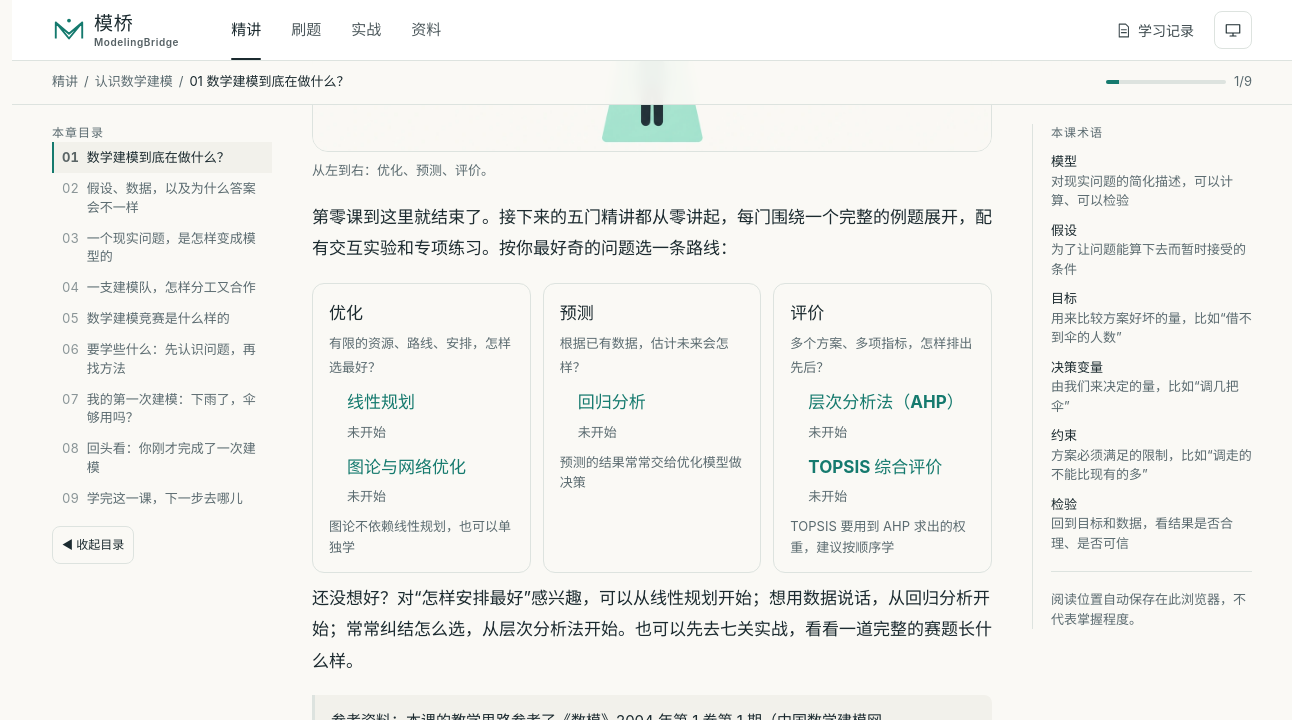
Test: the lesson page › ends with three routes into the existing courses and the completion card
The width and height of the screenshot is (1292, 720).
(page scrolled)
What coordinates should you click on to do the following:
click the link "回归分析"
I would click on:
 (612, 402)
Its box is [578,392,646,412].
(page scrolled)
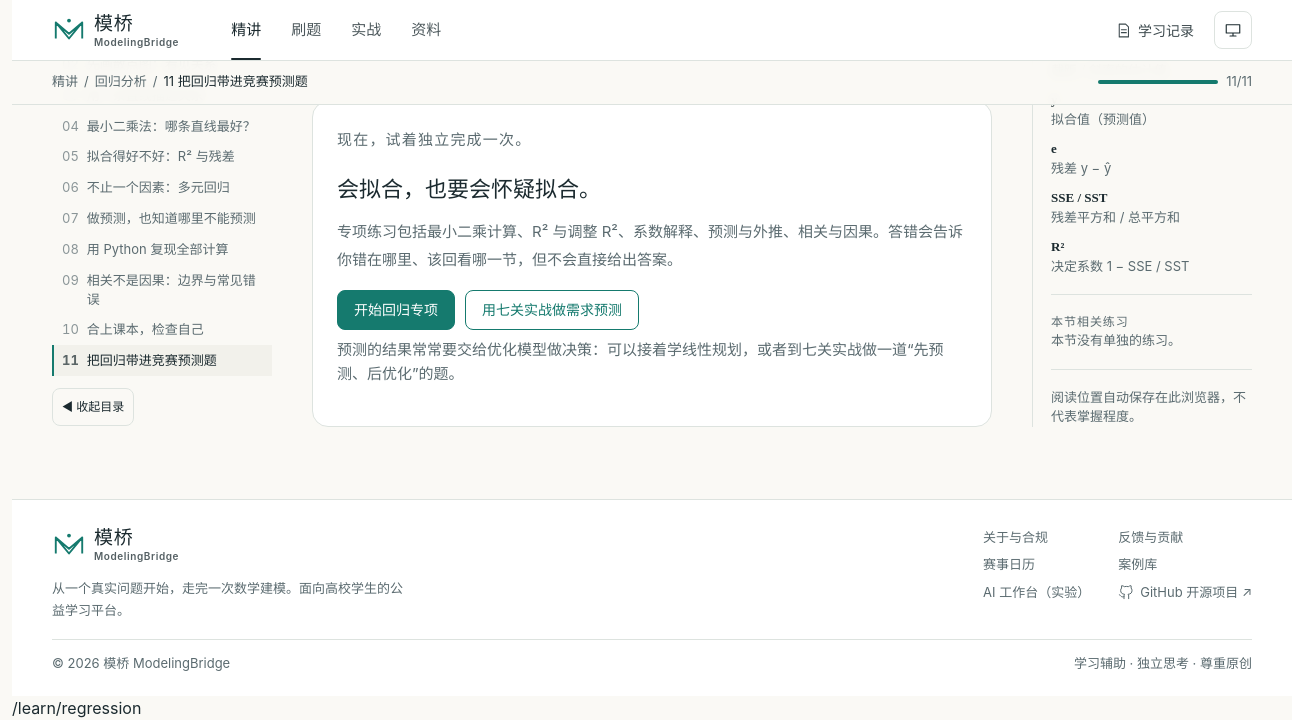
expect the text with test id "where" reads "/learn/regression": met, box [12,698,141,718]
